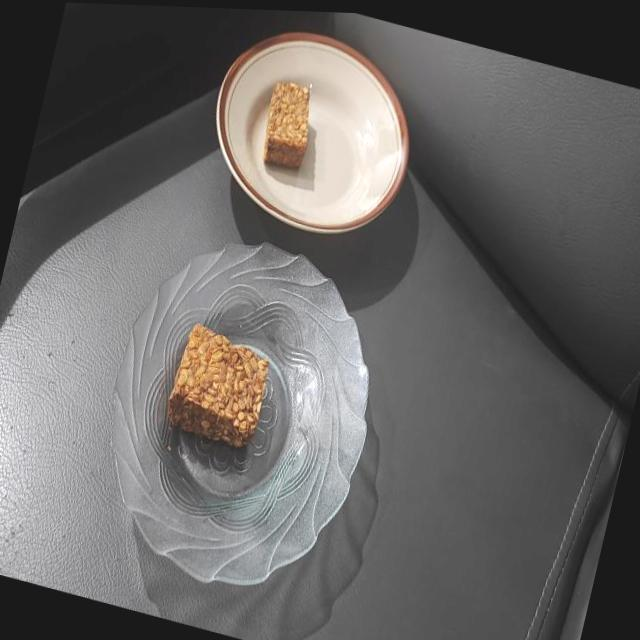tempe_goreng: (167, 324, 268, 446), (264, 82, 310, 166)
